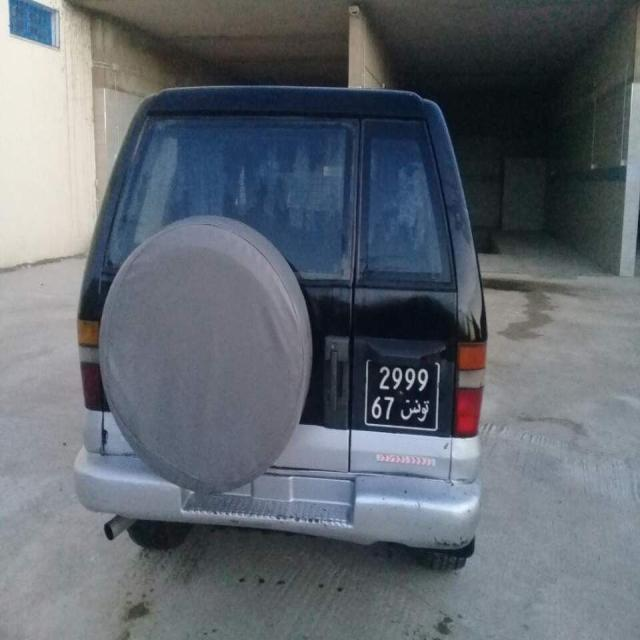LP: (364, 356, 438, 431)
